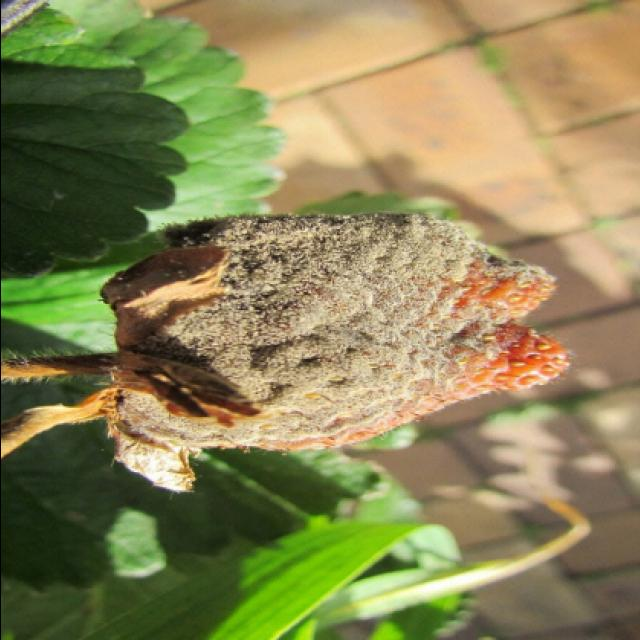Gray Mold: (97, 211, 574, 496)
